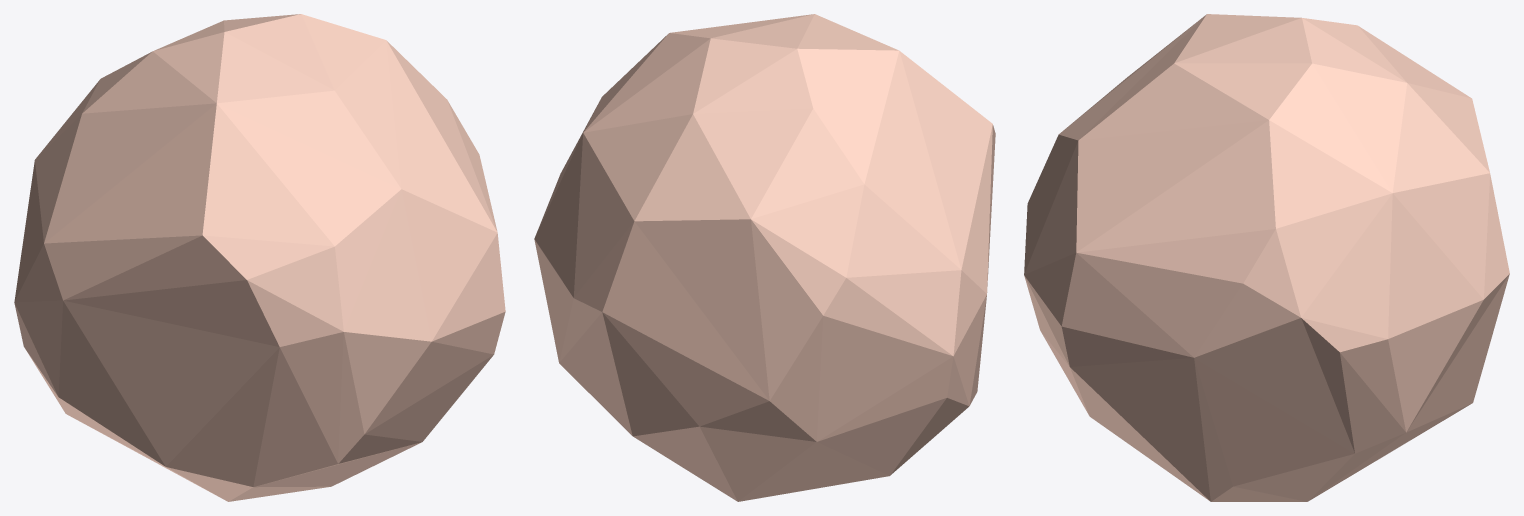
The model's file is asteroid.gltf.
3 renders of one model, left to right at view 1: azimuth 30°, elevation 25°; view 2: azimuth 150°, elevation 25°; view 3: azimuth 270°, elevation 25°, orthographic.
Visible parts, largest first — view 1: Asteroid; view 2: Asteroid; view 3: Asteroid.
Boxes of the visible parts, x1=… form: Asteroid: x1=14, y1=14, x2=505, y2=501; Asteroid: x1=534, y1=14, x2=995, y2=501; Asteroid: x1=1024, y1=14, x2=1509, y2=501.
Bounding box in the file's own units: 1.78 × 1.83 × 1.78.
